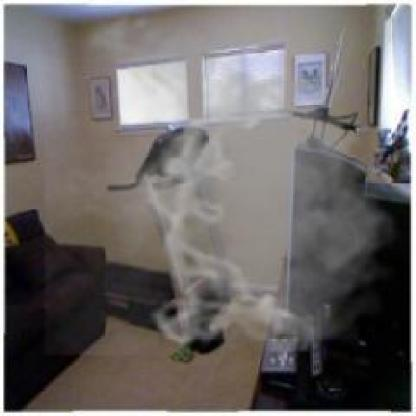Smoke: (44, 4, 410, 356)
